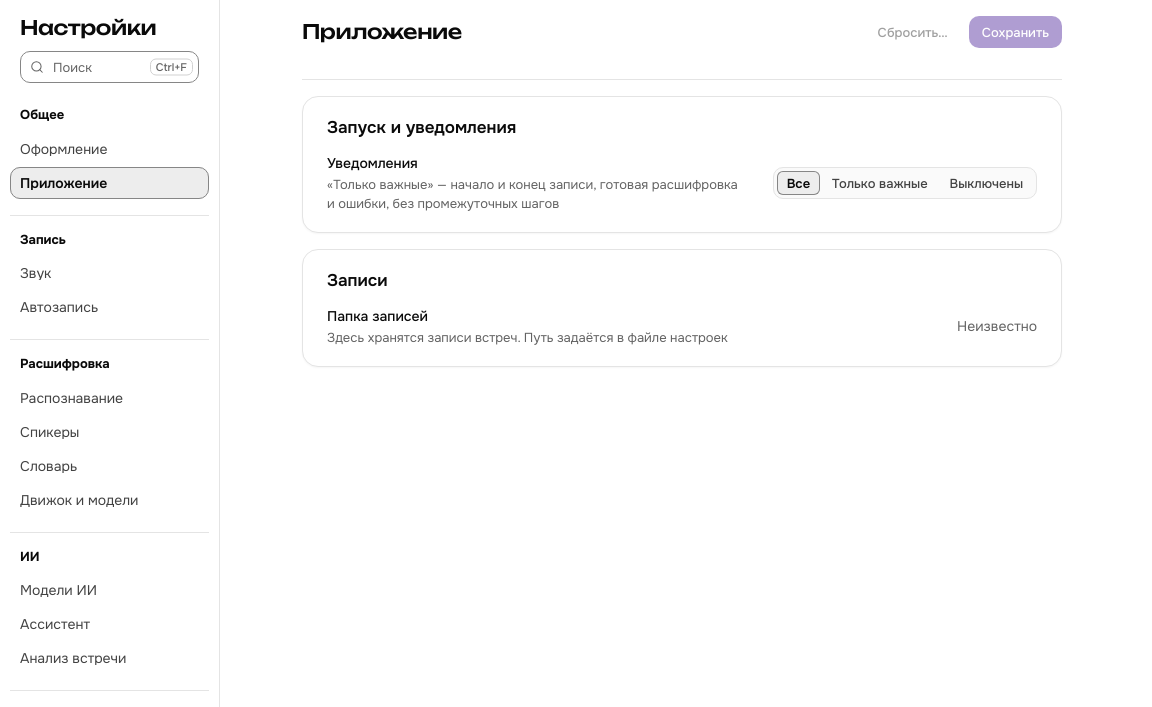
Test: поле «Поиск по настройкам» над меню — Aurora field--sm; ввод заменяет меню выдачей «Раздел › Параметр»
The width and height of the screenshot is (1152, 707).
expect the element named "Уведомления" is shown: met, box [773, 167, 1037, 199]
In the dropdown named "Поиск по настройкам": (110, 67) [20, 51, 199, 83], type "прокси"
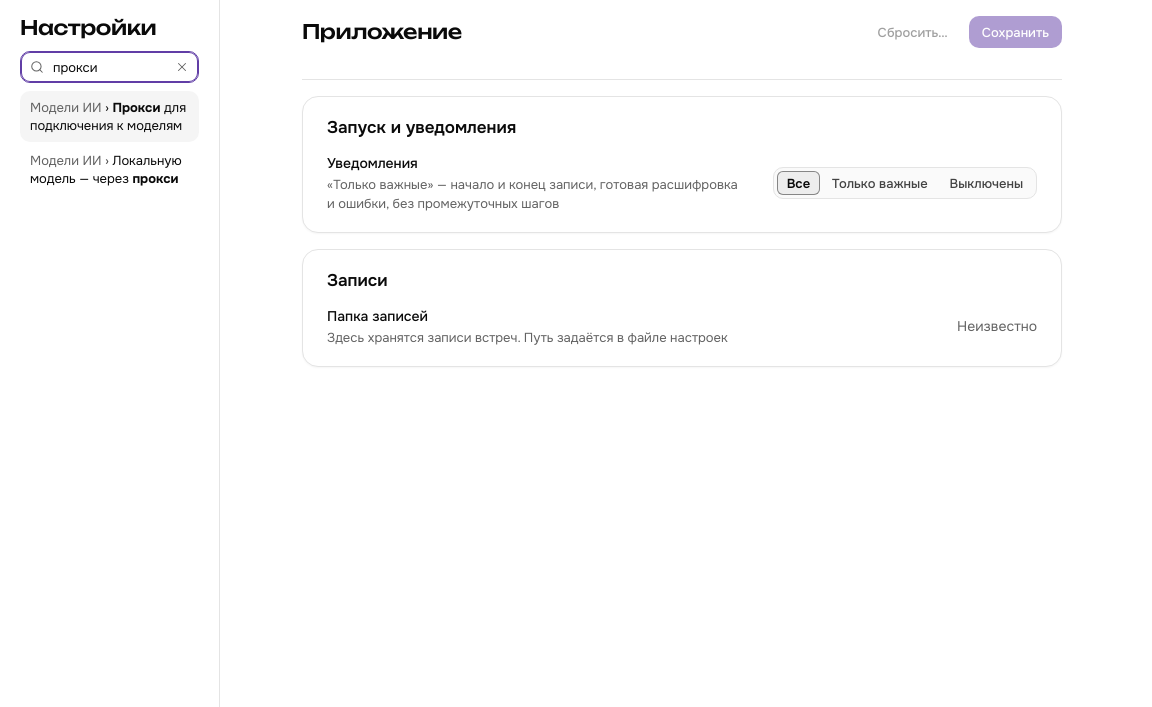
expect the button "Звук" is gone: met
expect the option "Модели ИИ › Прокси для подключения к моделям" is shown: met, box [20, 91, 199, 142]
expect the option "Модели ИИ › Локальную модель — через прокси" is shown: met, box [30, 152, 182, 187]
